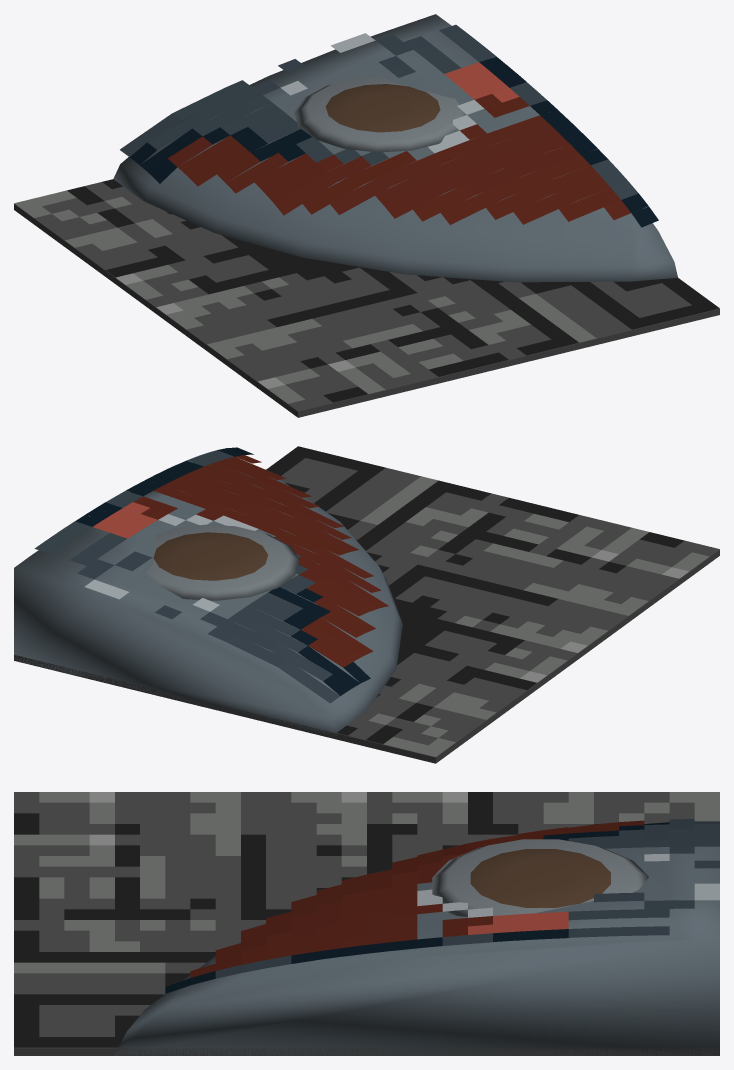
File: newshm-83.glb
The picture shows the model from 3 angles, top to bottom: view 1: azimuth 30°, elevation 25°; view 2: azimuth 150°, elevation 25°; view 3: azimuth 270°, elevation 25°; orthographic projection. The views are drawn at different scales.
Visible parts, largest first — view 1: newshm-83; view 2: newshm-83; view 3: newshm-83.
Part boxes in pixels (x1,y1,x2,y2): newshm-83: [14, 14, 719, 417]; newshm-83: [14, 446, 719, 763]; newshm-83: [14, 792, 719, 1055].
Bounding box in the file's own units: 2 × 0.4406 × 2.33.
